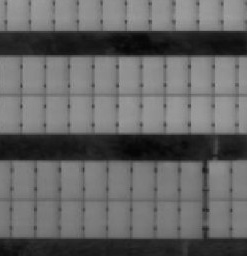solar: (18, 54, 48, 95), (42, 54, 72, 95), (66, 54, 96, 95), (89, 54, 119, 95), (115, 54, 145, 95), (137, 54, 167, 95), (161, 54, 191, 95), (186, 54, 216, 95), (210, 54, 240, 95), (18, 93, 48, 134), (41, 93, 71, 134), (65, 93, 95, 134), (88, 93, 118, 134), (114, 93, 144, 134), (138, 93, 168, 134), (162, 93, 192, 134), (186, 93, 216, 134), (211, 93, 241, 134), (204, 159, 234, 200), (176, 161, 206, 202), (153, 161, 183, 202), (128, 159, 158, 200), (104, 160, 134, 201), (79, 160, 109, 201), (55, 160, 85, 201), (32, 160, 62, 201), (7, 160, 37, 201), (7, 197, 37, 238), (33, 197, 63, 238), (57, 197, 87, 238), (80, 198, 110, 239), (104, 198, 134, 239), (127, 199, 157, 240), (152, 199, 182, 240), (176, 199, 206, 240), (204, 199, 234, 240)
